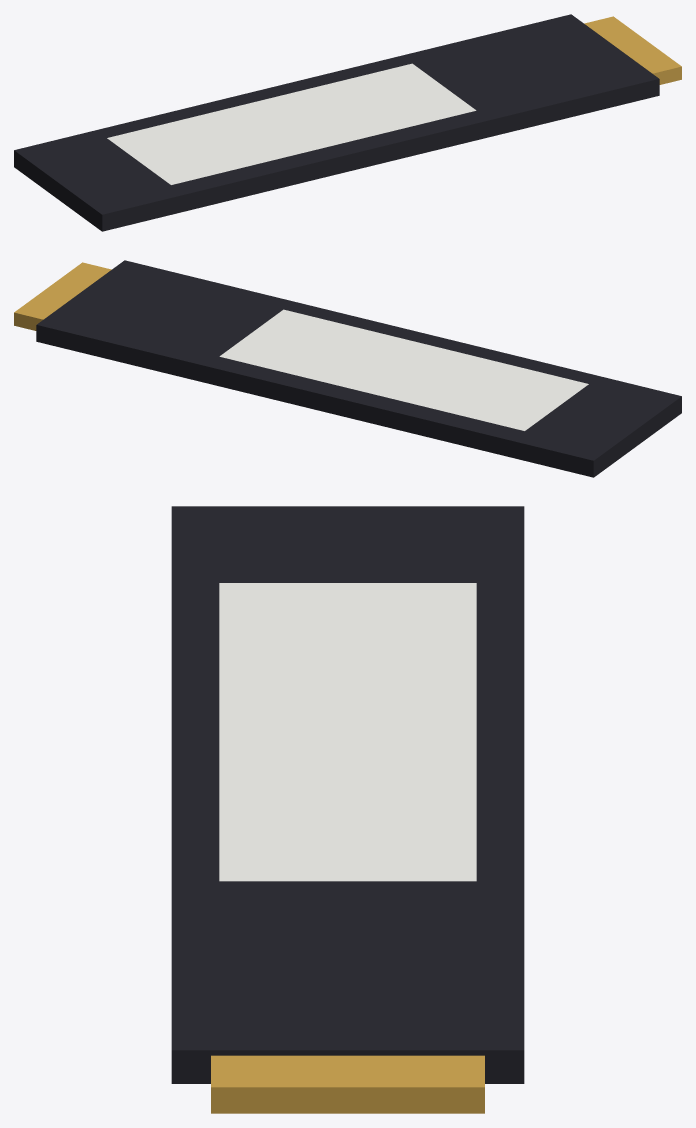
File: ssd.glb
3 renders of one model, top to bottom at view 1: azimuth 30°, elevation 25°; view 2: azimuth 150°, elevation 25°; view 3: azimuth 270°, elevation 25°, orthographic. The views are drawn at different scales.
Visible parts, largest first — view 1: world; view 2: world; view 3: world.
Boxes of the visible parts, bbox=[...] form: world: bbox=[14, 14, 681, 231]; world: bbox=[14, 260, 681, 477]; world: bbox=[171, 506, 524, 1113].
Bounding box in the file's own units: 3.28 × 0.096 × 0.85.
